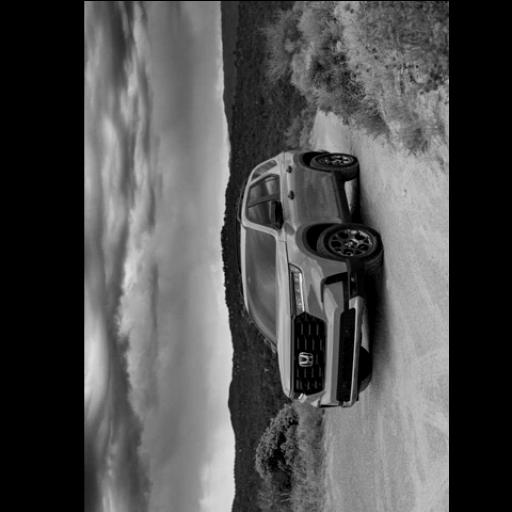suv: (236, 147, 380, 405)
